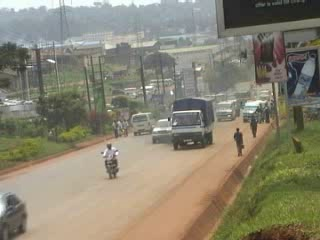Car: (0, 189, 35, 239), (150, 116, 176, 144)
Motorcycle: (98, 138, 123, 181)
